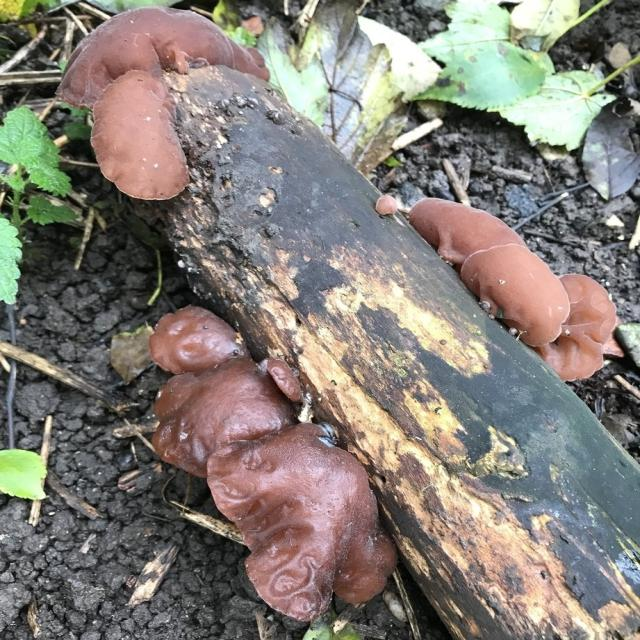Fase Muda: (263, 352, 304, 405)
Matang: (211, 428, 406, 614), (19, 3, 284, 101), (94, 70, 194, 210), (147, 371, 286, 467), (458, 245, 566, 344), (408, 199, 533, 265), (553, 272, 619, 391), (143, 303, 254, 372)
primordia: (373, 192, 402, 220)
